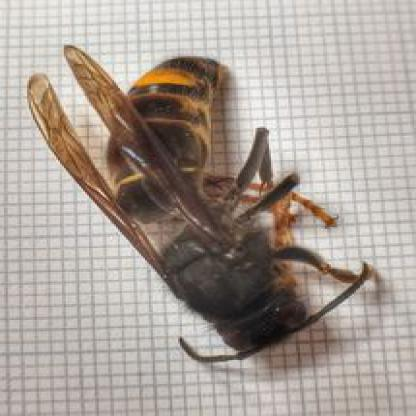Asian Hornet: (22, 35, 380, 375)
